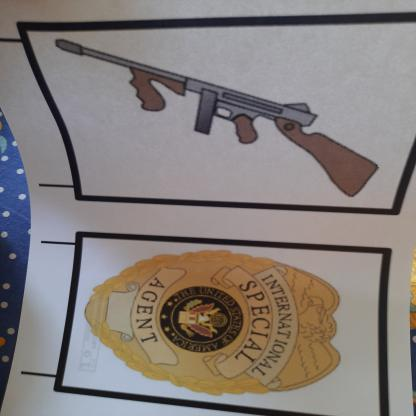Bootlegger: (41, 26, 400, 207)
G-man: (74, 234, 372, 404)
